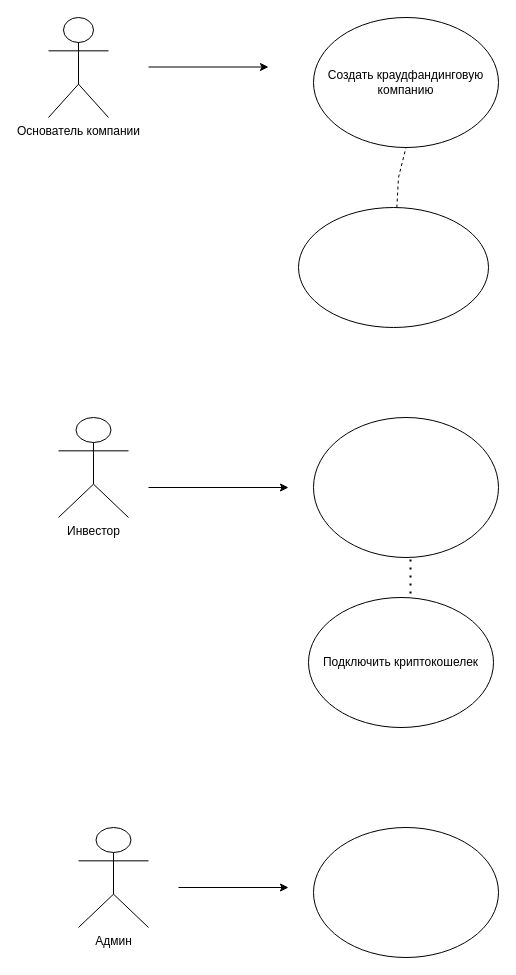
Image size: 516x975. Some labels were removed from this diagram. Each missing label, with the centre of its shape:
"Заниматься модерством кампаний" goes at point 405,892.
"Настроить условия контракта" goes at point 393,267.
"Участвовать в финансировании" goes at point 405,487.
